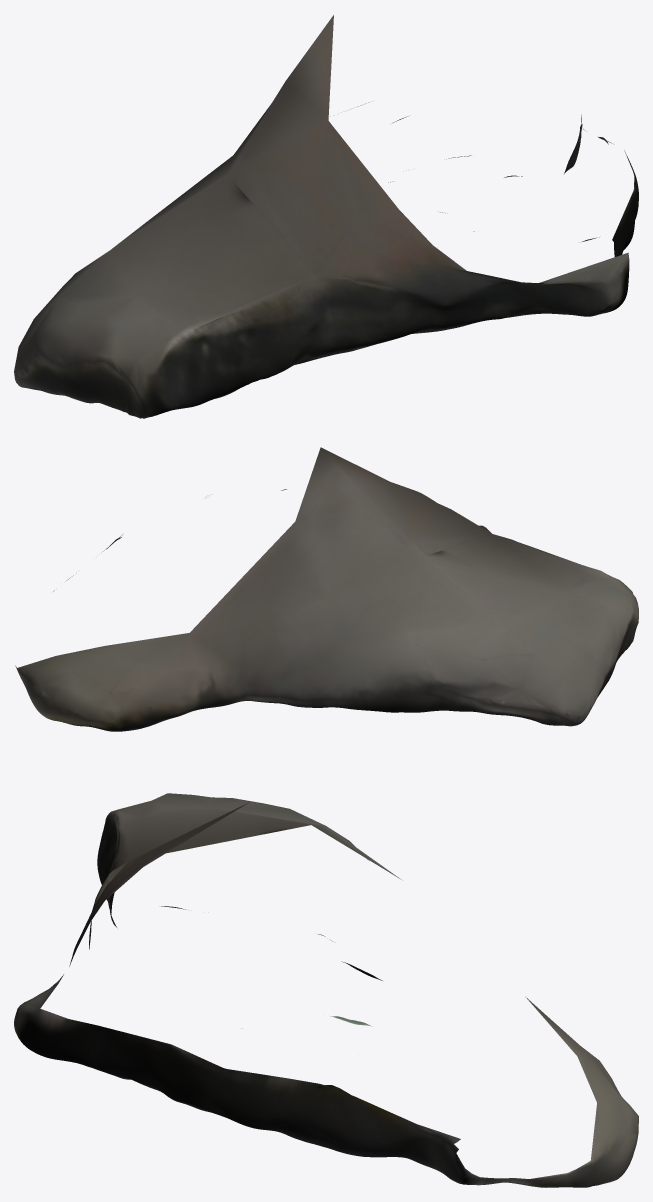
3 views of the same model, one above another, from view 1: azimuth 30°, elevation 25°; view 2: azimuth 150°, elevation 25°; view 3: azimuth 270°, elevation 25° (orthographic). The views are drawn at different scales.
Size of the model in its own units: 0.6044 by 0.276 by 0.4966.
1 material, 1 textured.
